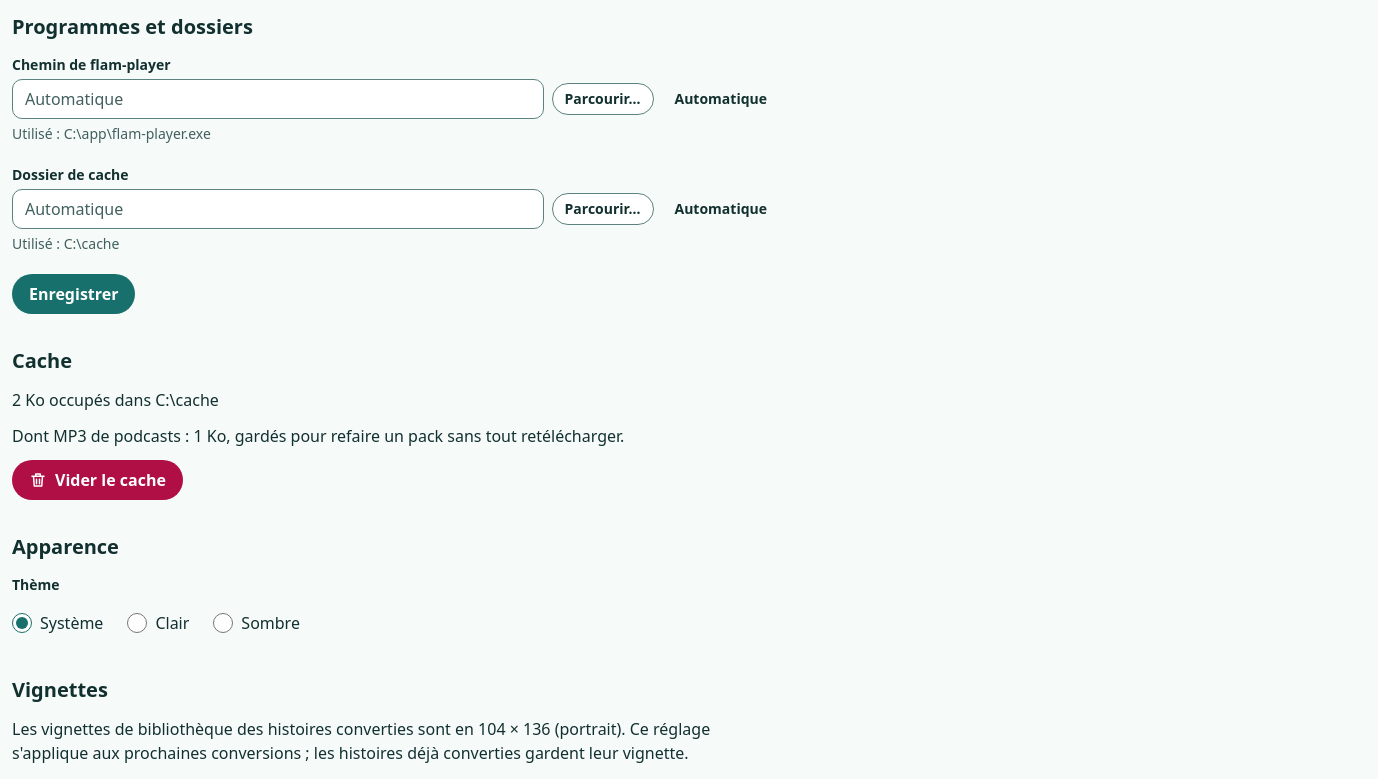
Test case: relit les histoires installées au premier enregistrement, même sans changement (disque revenu)
The image size is (1378, 779).
Expected: the field labelled "Chemin de flam-player" is shown, [12, 79, 544, 119]
Click the button "Enregistrer": (74, 294) [12, 274, 136, 314]
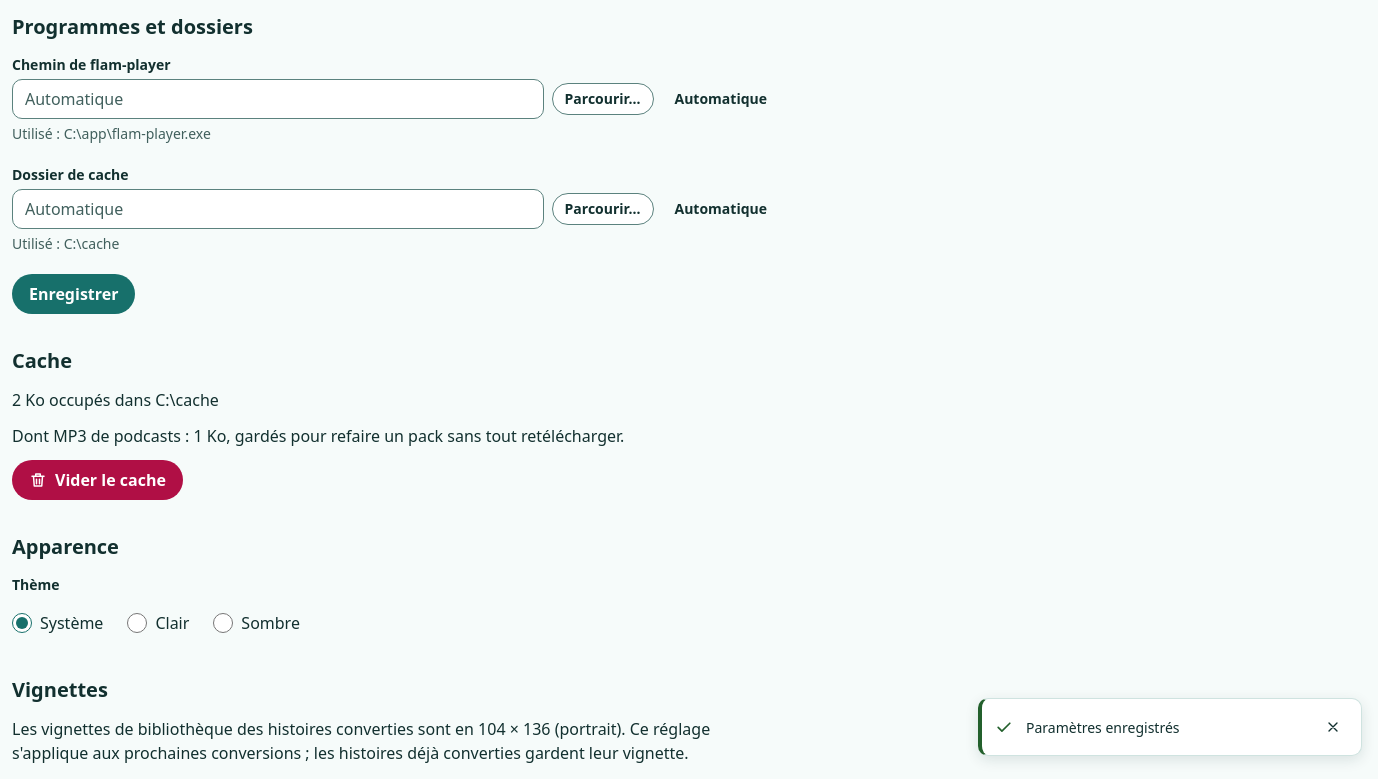
Expected: the text "Paramètres enregistrés" is shown, [1026, 718, 1180, 737]
